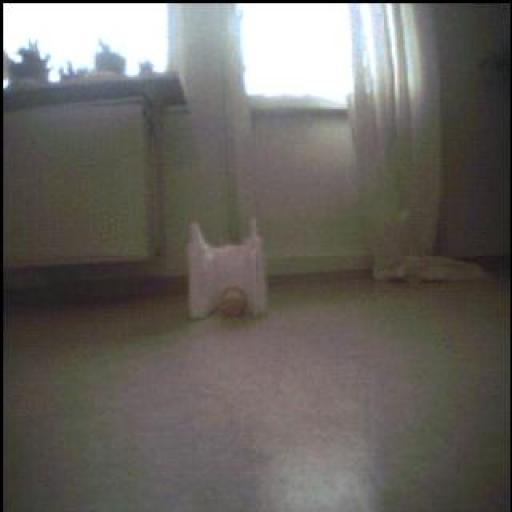Basket: (217, 286, 248, 321)
